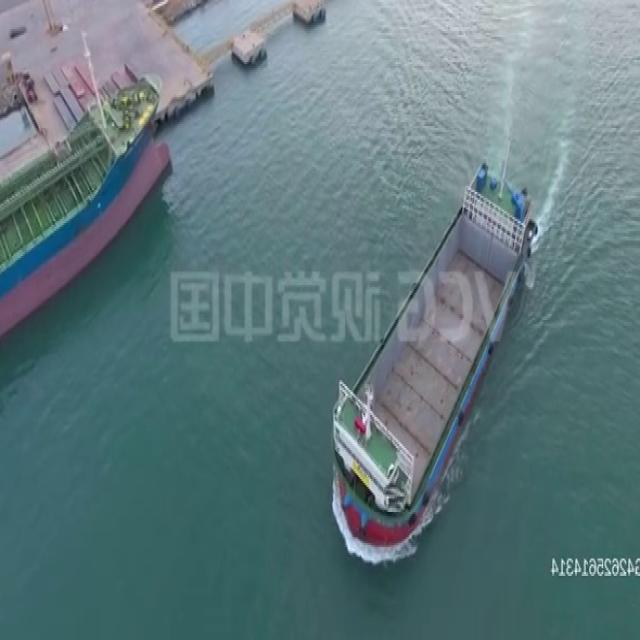cargoship: (327, 164, 535, 552), (0, 62, 169, 345)
